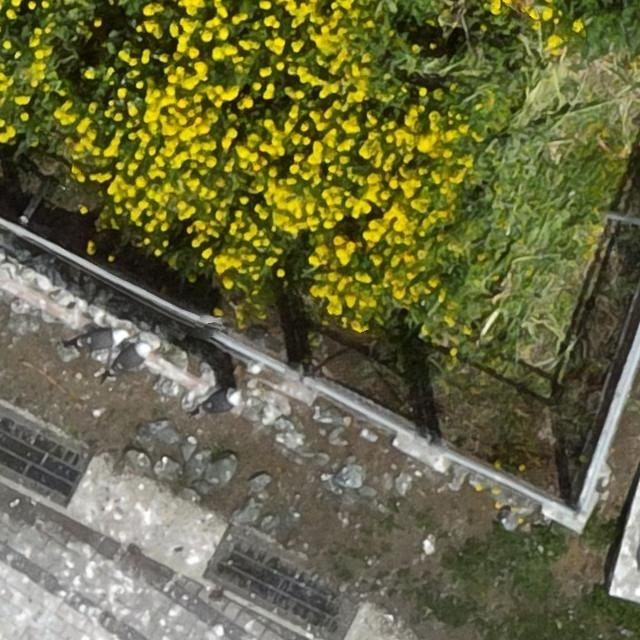umineko: (108, 338, 152, 372), (198, 391, 241, 414), (77, 329, 121, 348)
